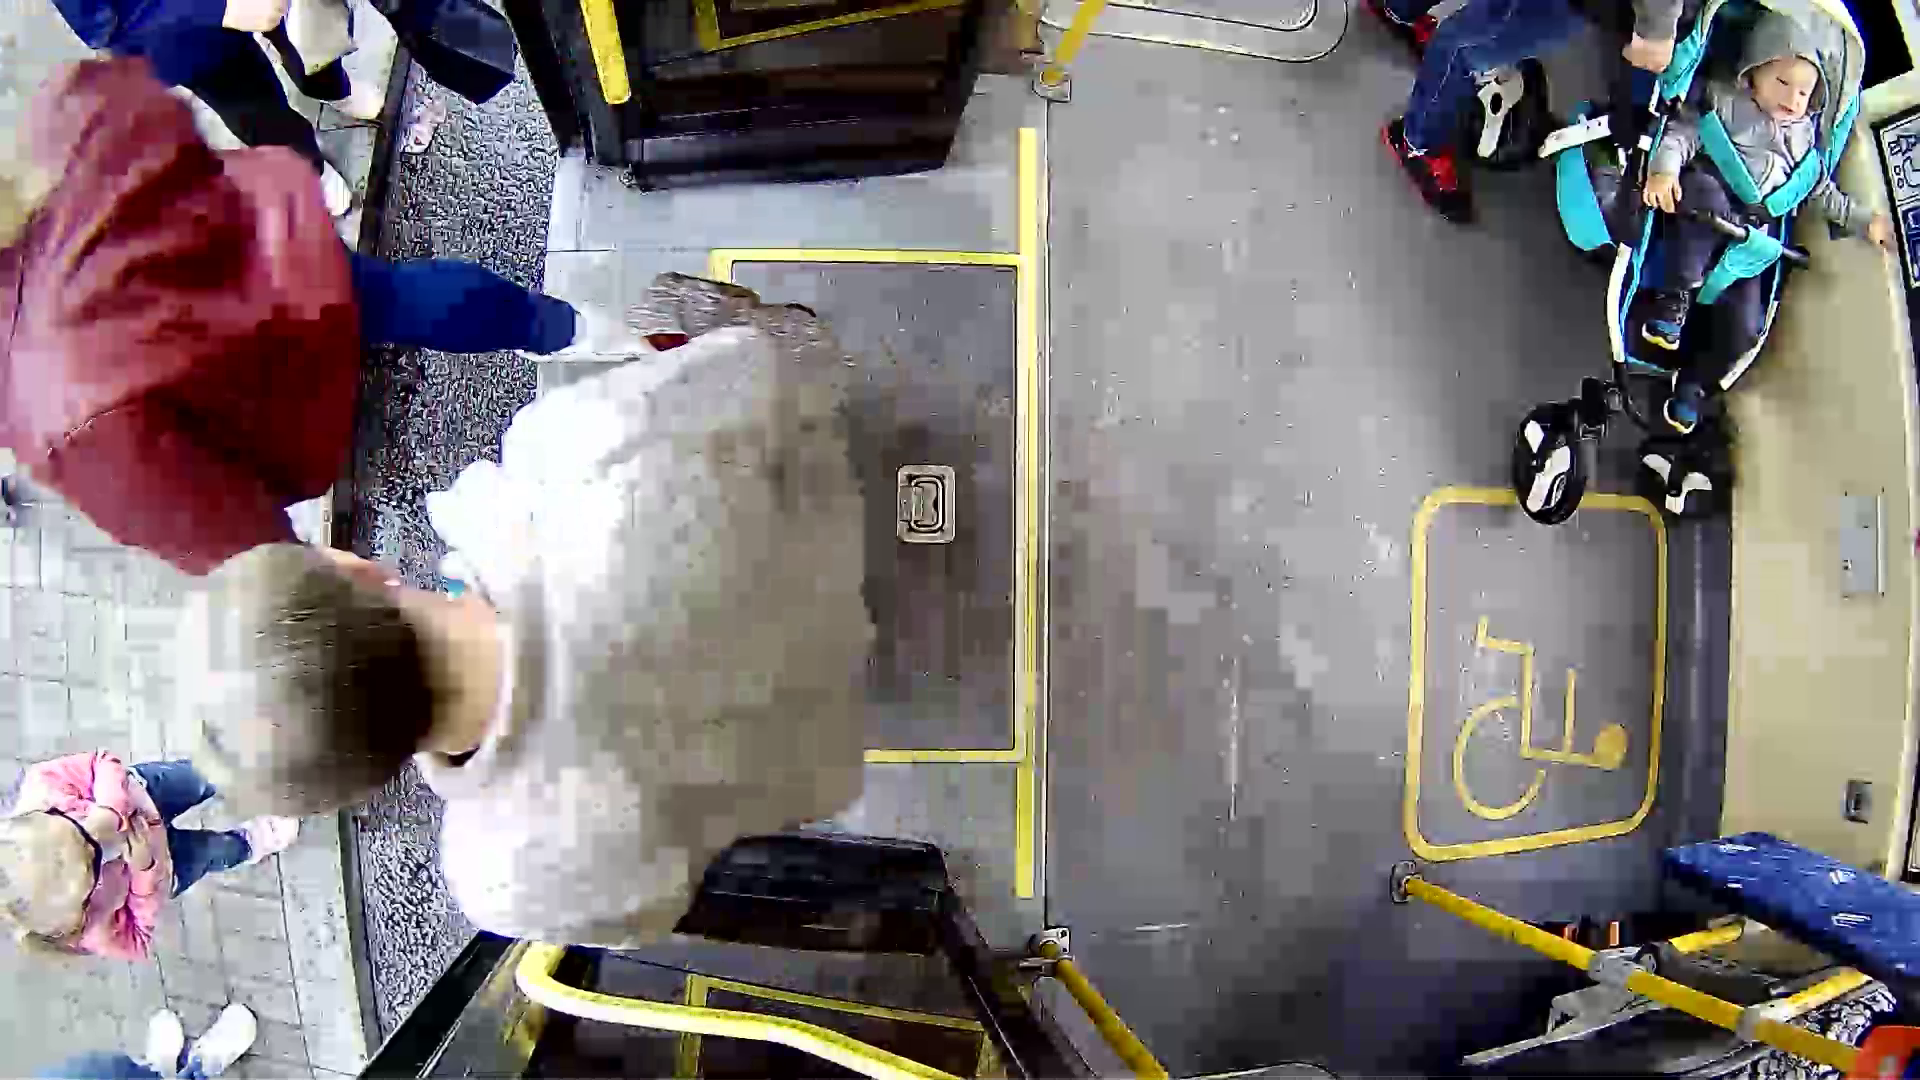person: (145, 313, 928, 928)
